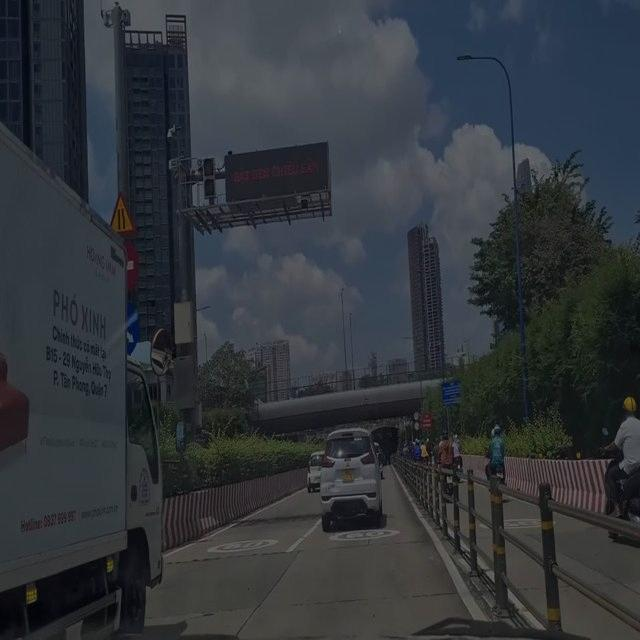Cấm đi ngược chiều: (120, 243, 138, 287)
Hướng phải đi vòng sang phải: (125, 290, 139, 356)
Khác: (439, 379, 465, 404)
Đường hẹp: (108, 188, 135, 236)
